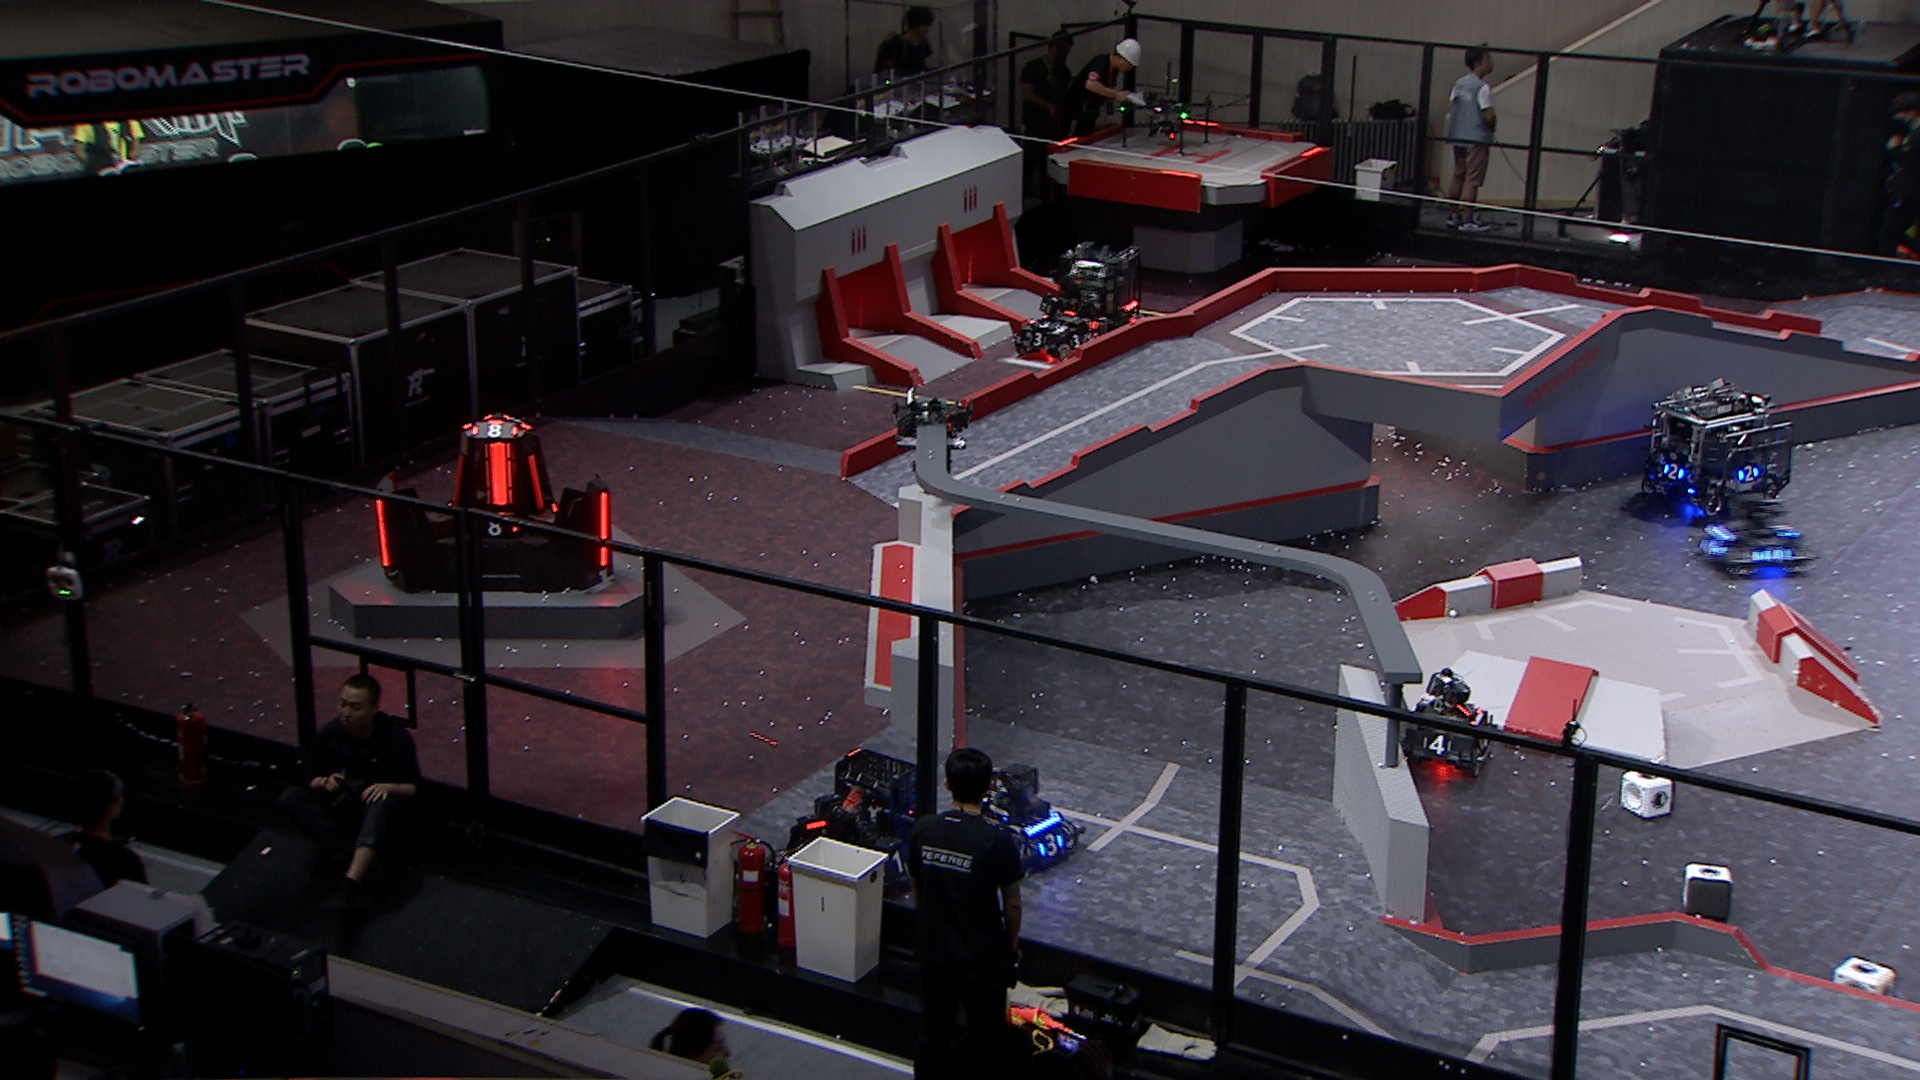armor: (484, 438, 510, 509), (593, 489, 612, 568), (371, 498, 392, 567), (524, 454, 545, 513), (469, 417, 520, 440), (880, 845, 911, 878), (1035, 828, 1065, 860), (1422, 731, 1455, 757), (1750, 545, 1793, 564), (481, 516, 520, 538), (447, 455, 463, 505), (1698, 533, 1726, 559), (1771, 520, 1803, 542), (1660, 462, 1687, 481), (1027, 315, 1062, 330), (1735, 463, 1760, 483), (1026, 330, 1046, 348), (1069, 330, 1087, 349), (1476, 731, 1491, 750)
base: (365, 407, 615, 595)
car: (779, 744, 931, 895), (1638, 377, 1797, 518), (951, 760, 1087, 882), (1693, 476, 1817, 580), (1396, 665, 1498, 775), (1054, 237, 1150, 351), (1010, 287, 1102, 363)
watcher: (893, 386, 982, 477)
